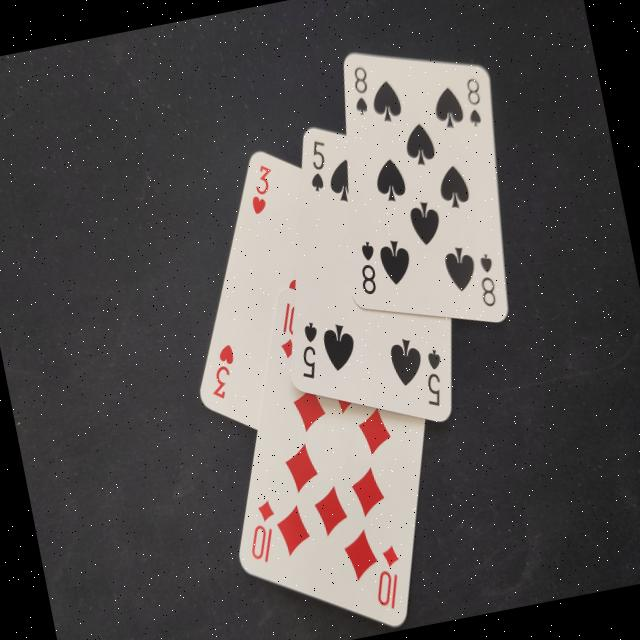10d: (236, 498, 286, 572), (363, 541, 411, 616)
3h: (198, 342, 244, 406), (238, 162, 280, 223)
5s: (288, 317, 328, 387), (412, 346, 452, 414), (300, 137, 336, 199)
8s: (468, 244, 503, 314), (342, 60, 378, 124), (455, 72, 490, 134), (350, 237, 384, 300)
